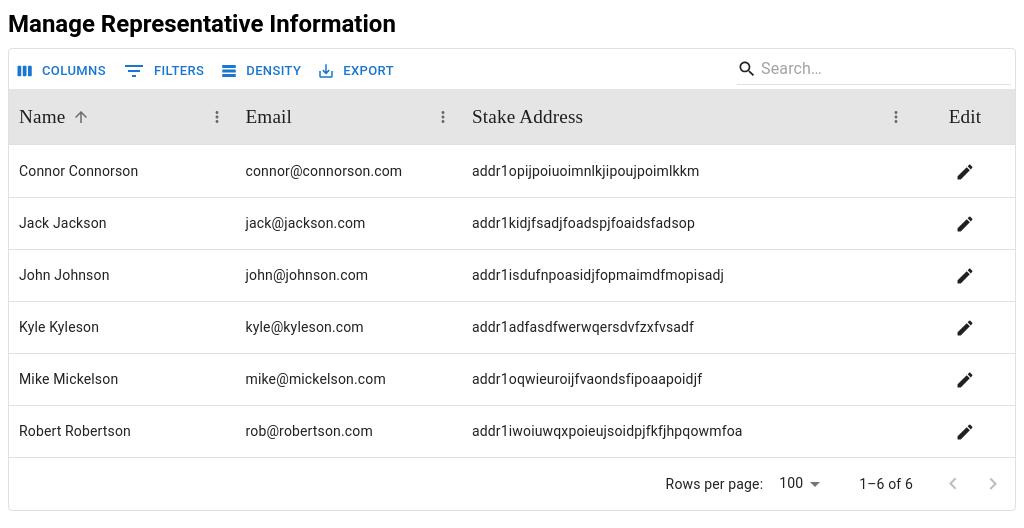
Scenario: Successfully edits user information
Step 1. Click the menu item with test id "edit-representative-info-1" → (965, 276), box [950, 260, 980, 290]
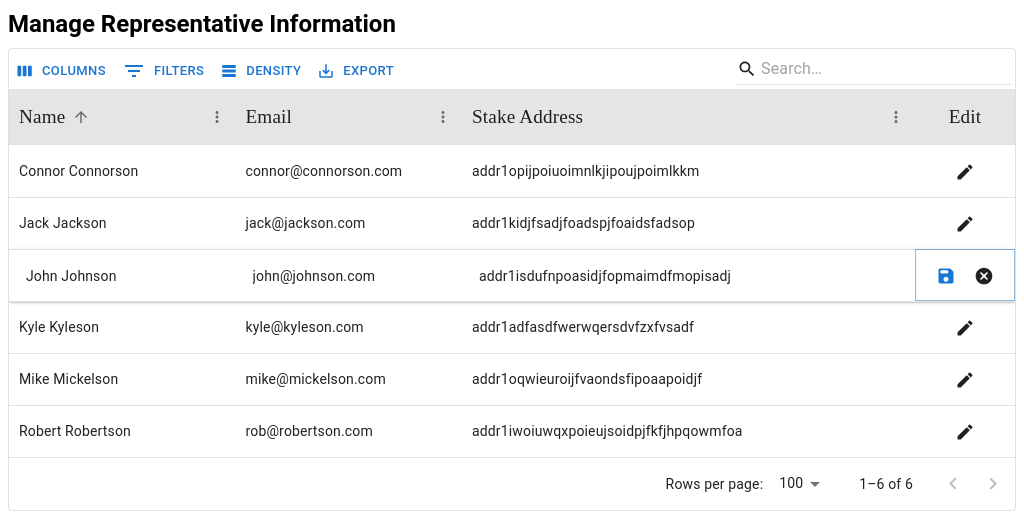
Step 2. Click the menu item with test id "save-representative-info-1" → (946, 276), box [931, 260, 961, 290]
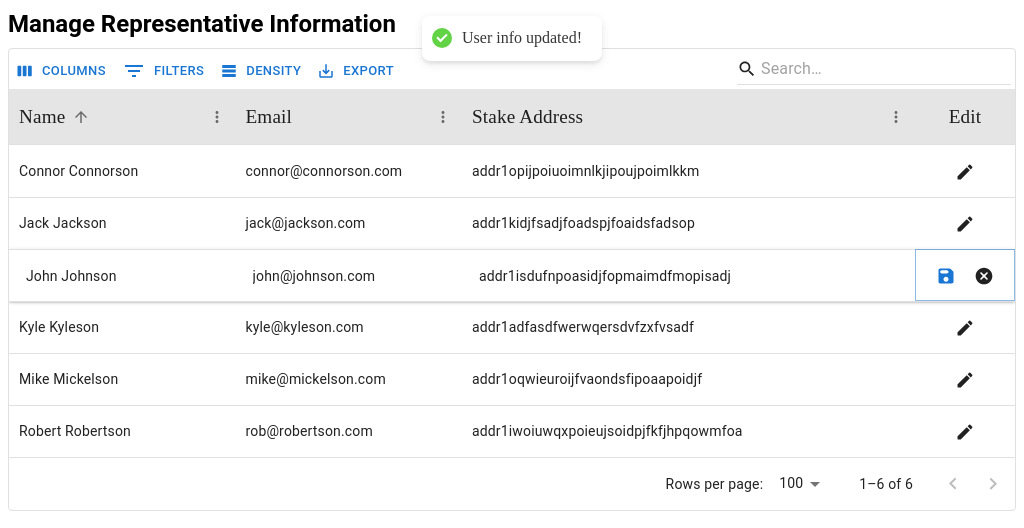
Expected: the text "User info updated!" is shown, [462, 28, 582, 49]
